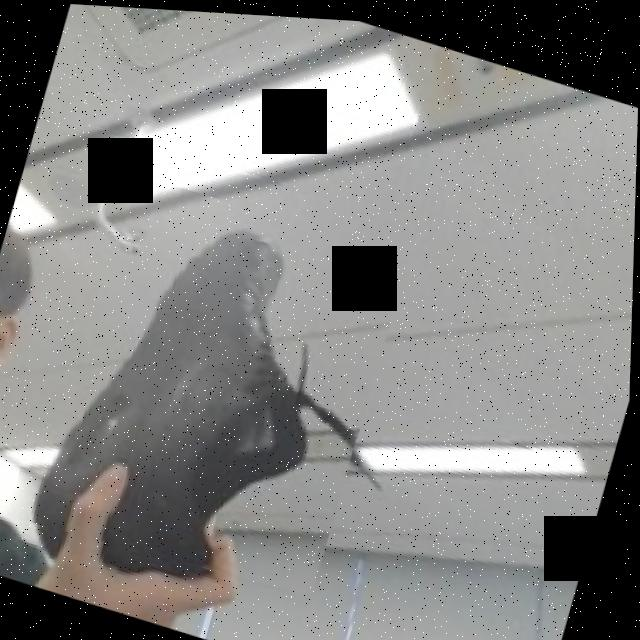shoe: (7, 158, 412, 610)
